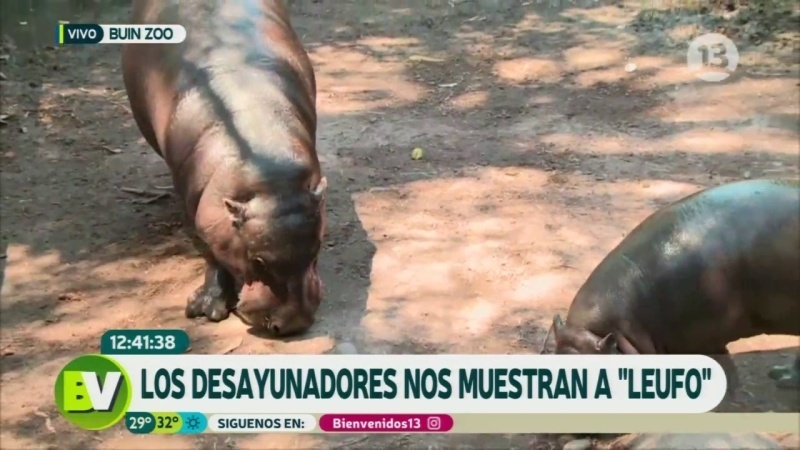hipopotamo: (104, 1, 352, 339), (505, 151, 800, 389)
